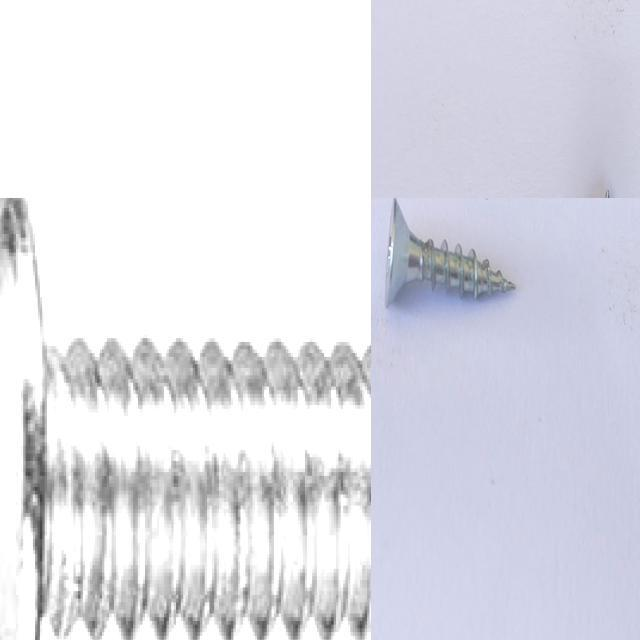Screw: (0, 198, 371, 640), (385, 198, 516, 306)
